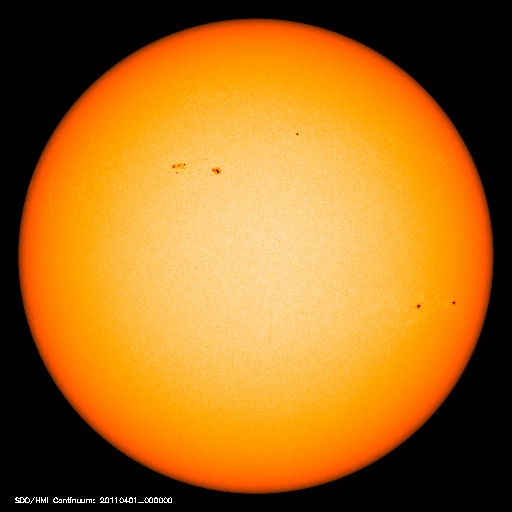sunspot: (161, 153, 231, 184), (405, 292, 467, 318), (286, 123, 309, 148)
